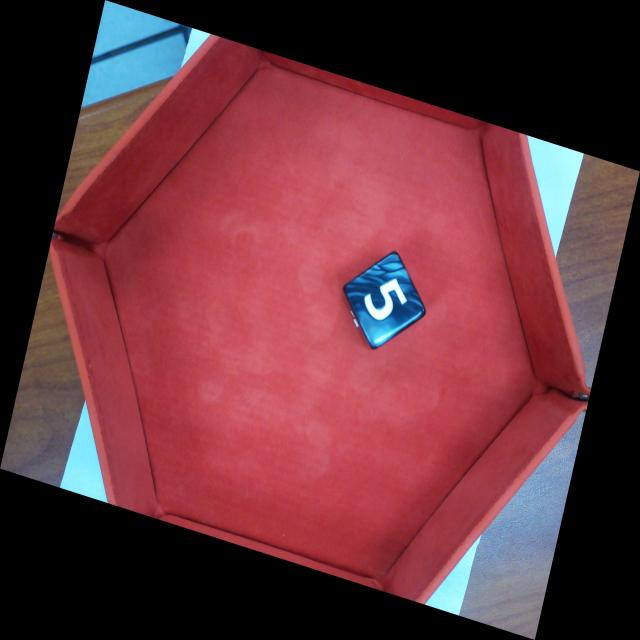dice: (344, 253, 423, 345)
